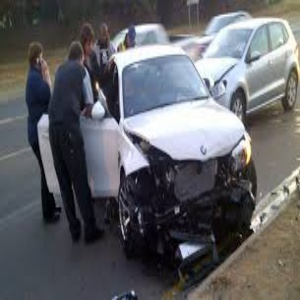bumper: (143, 184, 250, 261)
